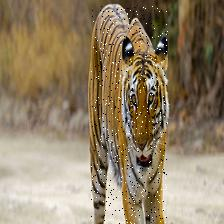tiger: (91, 6, 168, 224)
